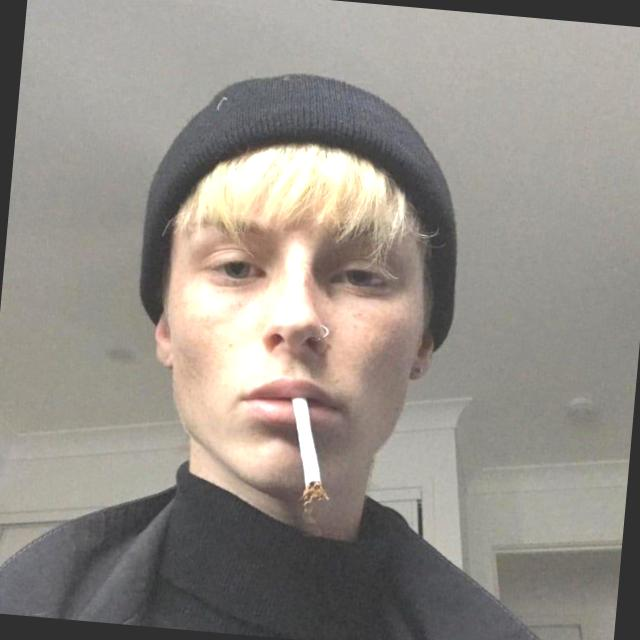smoke: (269, 380, 353, 527)
